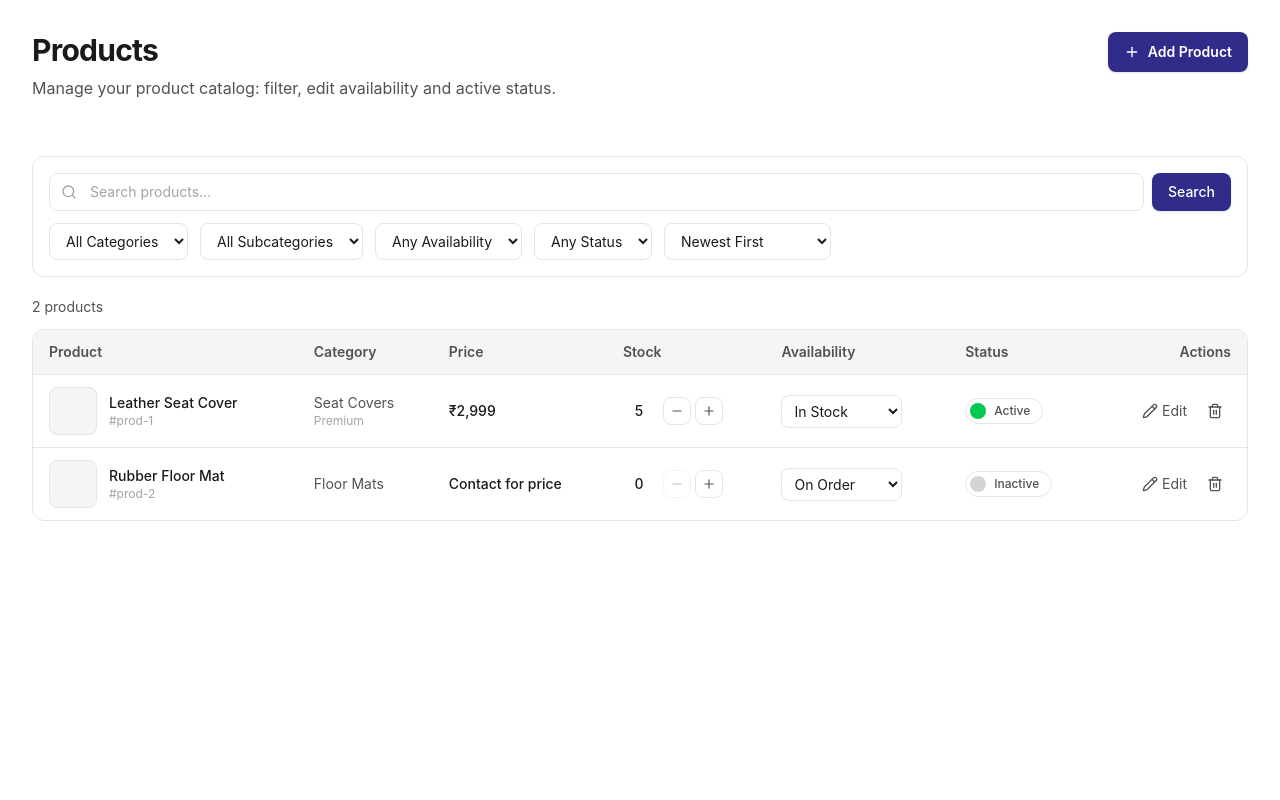
Test: ProductsAdminPage › deletes a product after confirmation
Expected: the text "Leather Seat Cover" is shown, [109,393,238,413]
What coordinates should you click on to do the following:
click the button named "delete leather seat cover"
I would click on:
 (1215, 411)
Its box is [1199,395,1231,427].
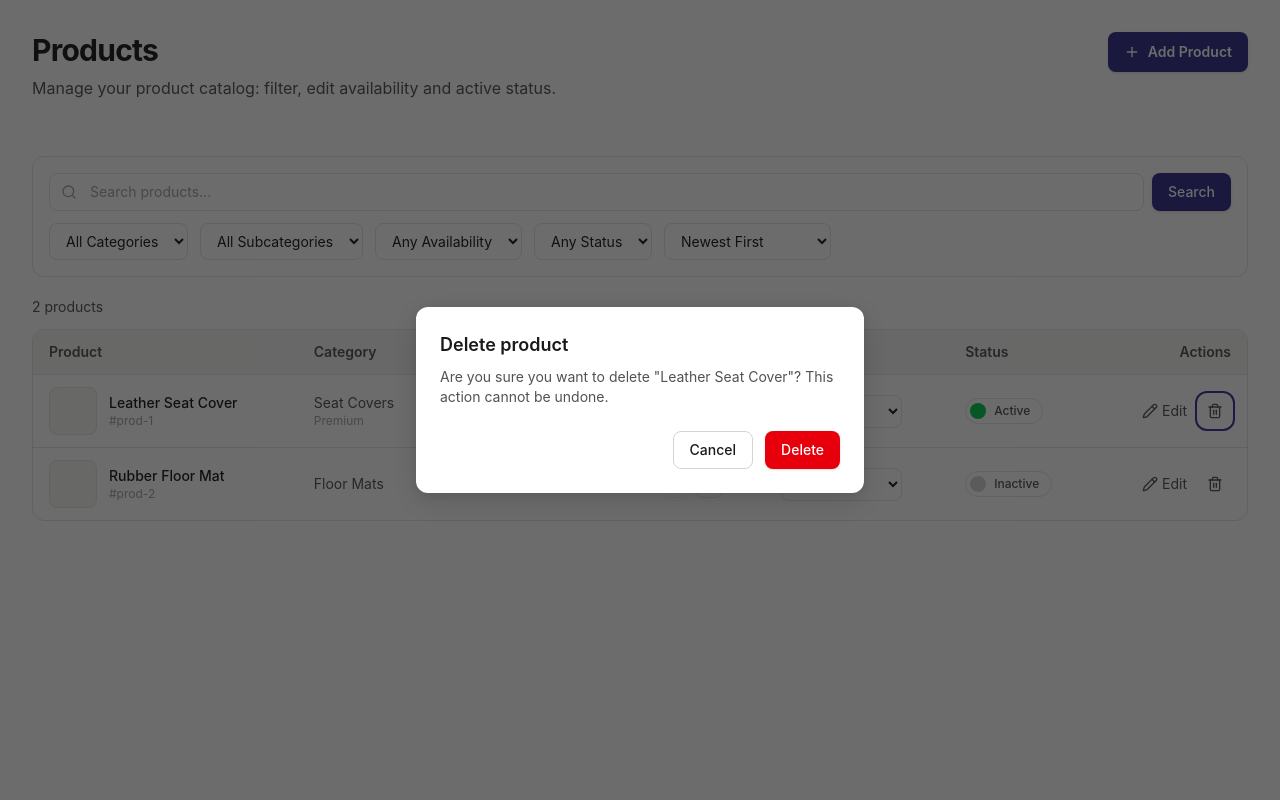
Now the text "Leather Seat Cover" is shown, box [660,368,788,385]
What coordinates should you click on to do the following:
click the button "Delete"
I would click on:
 (803, 450)
Its box is [765,431,840,469].
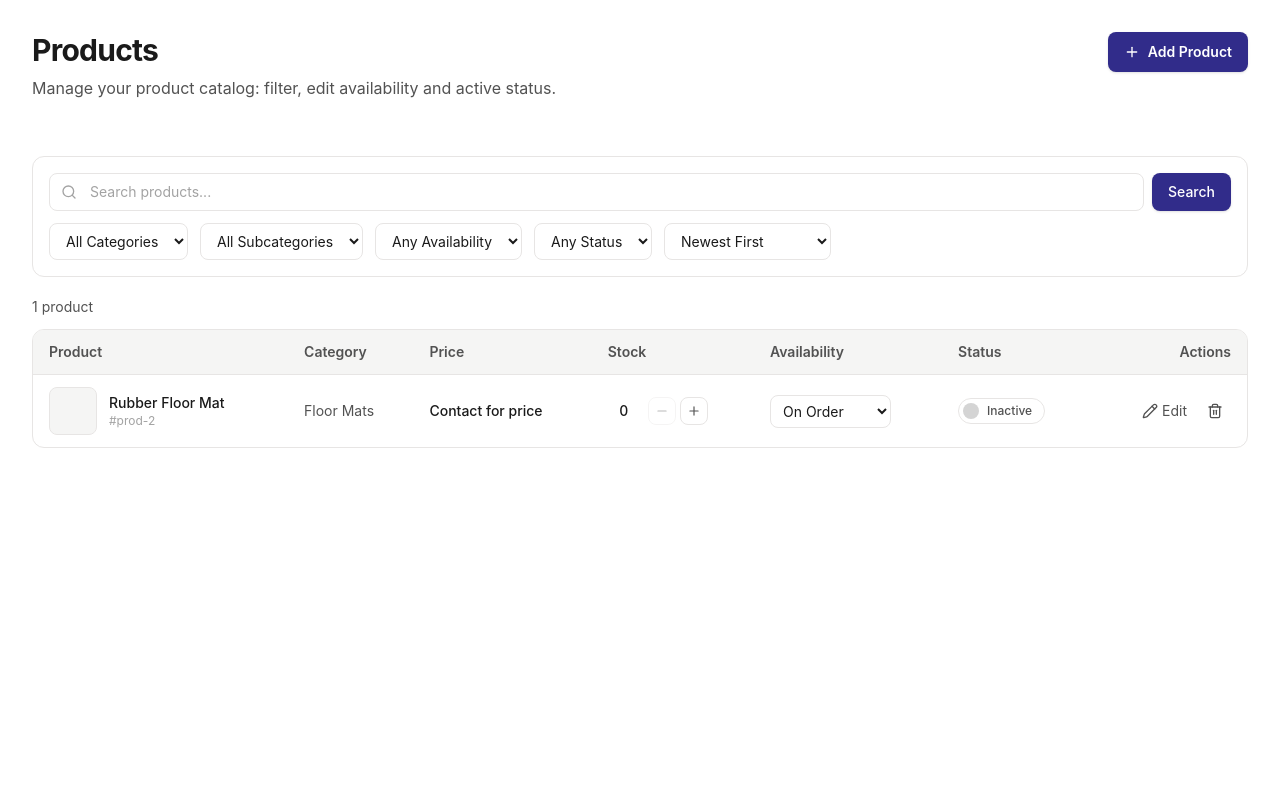
Now the text "Leather Seat Cover" is gone
